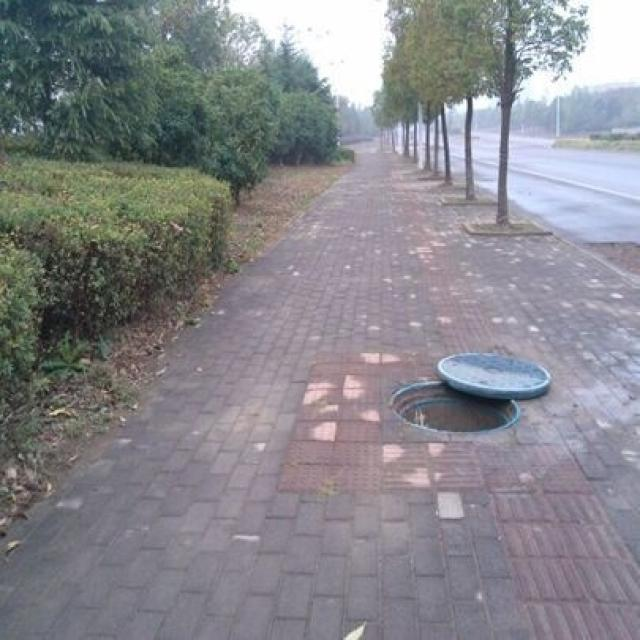Lose: (387, 350, 550, 435)
